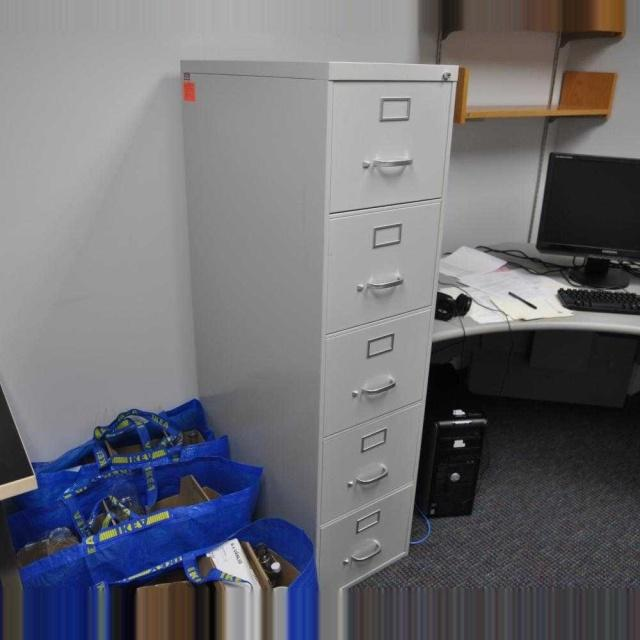AIO PC-Monitor-TV: (535, 151, 639, 289)
Filing Cabinet: (313, 57, 459, 588)
